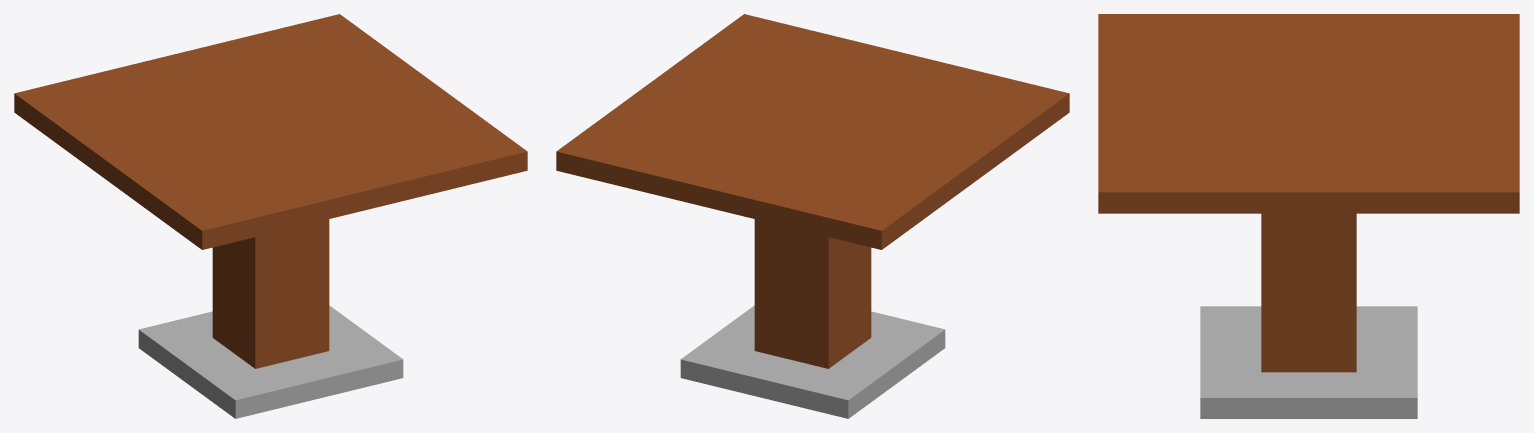
Rendered from table4.fbx.
The picture shows the model from 3 angles, left to right: view 1: azimuth 30°, elevation 25°; view 2: azimuth 150°, elevation 25°; view 3: azimuth 270°, elevation 25°; orthographic projection. The views are drawn at different scales.
Parts seen in each view (by area): view 1: Cube.008; view 2: Cube.008; view 3: Cube.008.
Part boxes in pixels (box(x1,y1,x2,y2)): Cube.008: box(14, 14, 527, 418); Cube.008: box(556, 14, 1069, 418); Cube.008: box(1098, 14, 1519, 418).
Size of the model in its own units: 200 by 141 by 200.
1 material, 1 textured.
